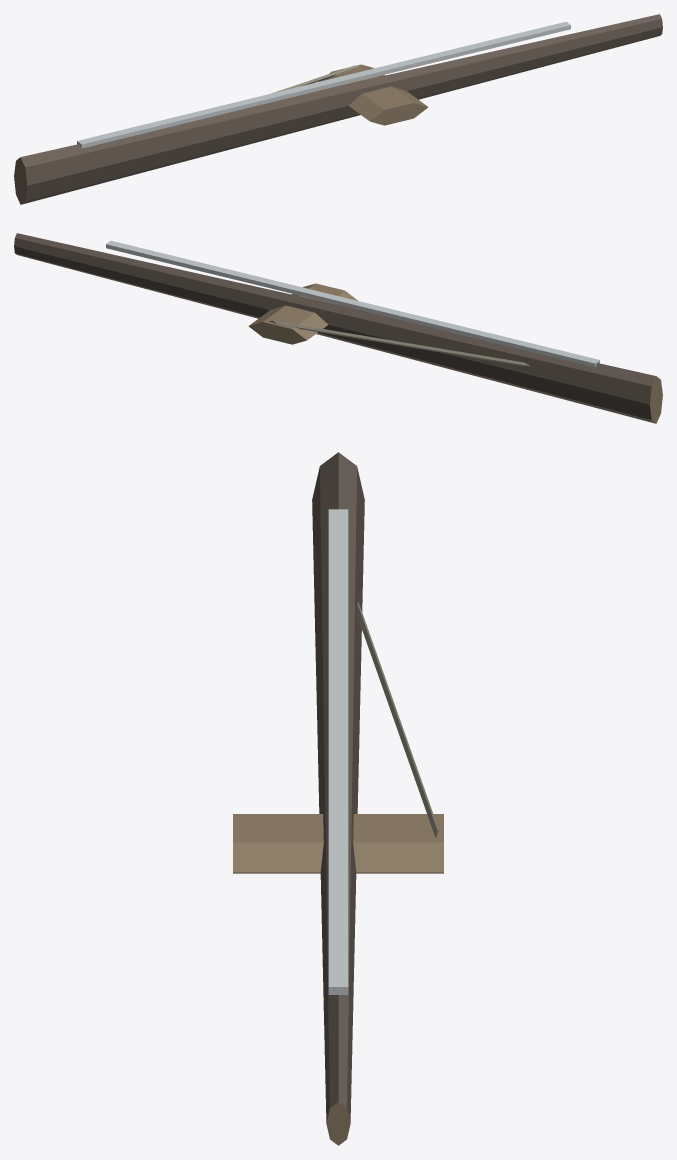
The model's file is fallen_mast.glb.
3 views of the same model, one above another, from view 1: azimuth 30°, elevation 25°; view 2: azimuth 150°, elevation 25°; view 3: azimuth 270°, elevation 25° (orthographic). The views are drawn at different scales.
Visible parts, largest first — view 1: fallen_mast; view 2: fallen_mast; view 3: fallen_mast.
Part boxes in pixels (<box>): fallen_mast: <box>14,14,662,204</box>; fallen_mast: <box>14,233,662,423</box>; fallen_mast: <box>233,452,443,1145</box>.
Size of the model in its own units: 7 by 0.5 by 1.
